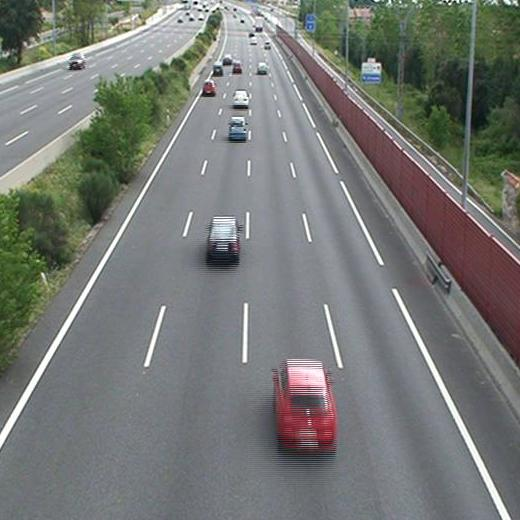car: (274, 361, 336, 444), (208, 217, 240, 258), (229, 116, 246, 139), (232, 90, 249, 106), (203, 80, 214, 93), (257, 63, 269, 74), (232, 61, 242, 73), (212, 63, 222, 74), (222, 55, 232, 63), (250, 36, 258, 45), (263, 40, 270, 48)
